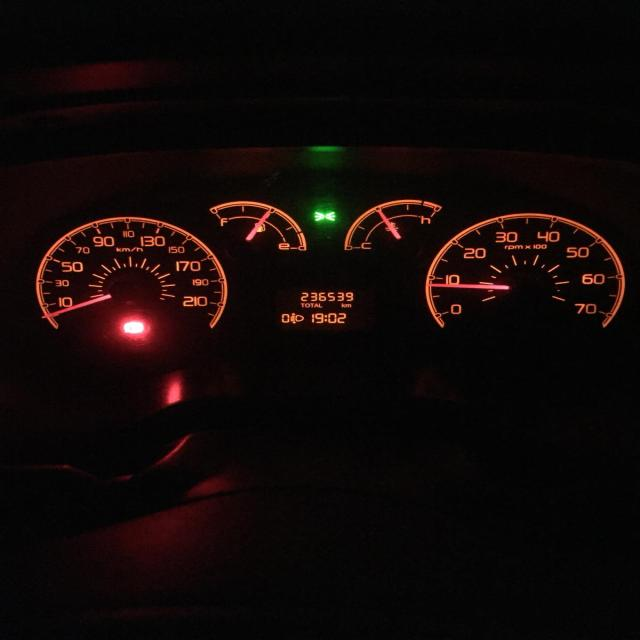odometer: (276, 289, 362, 329)
